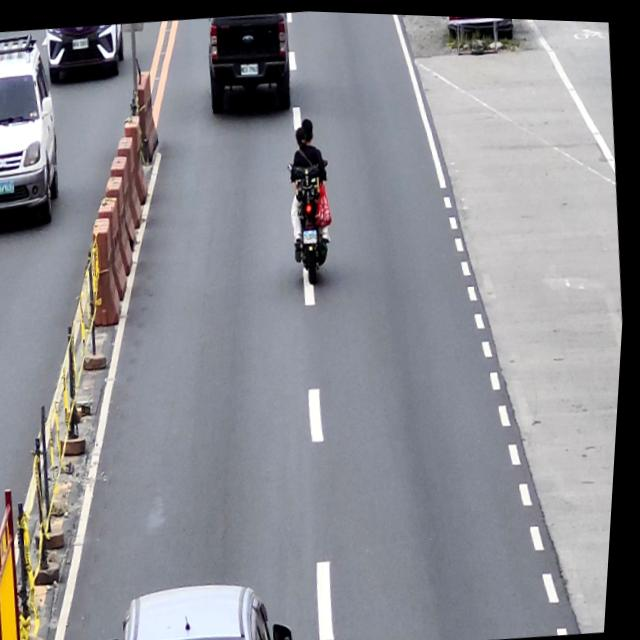Car: (100, 571, 303, 640), (201, 8, 298, 121)
License-Plate: (304, 225, 321, 242), (240, 61, 258, 74)
Motorcycle: (284, 148, 345, 286)
